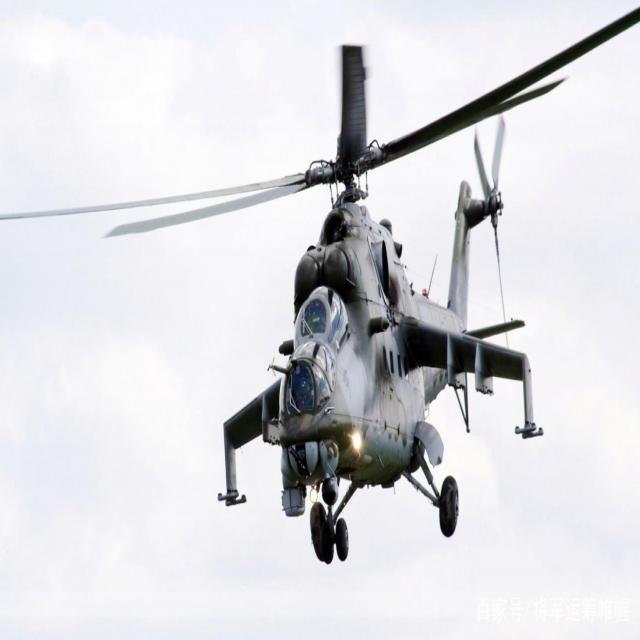MIL_HELO: (80, 29, 640, 562)
